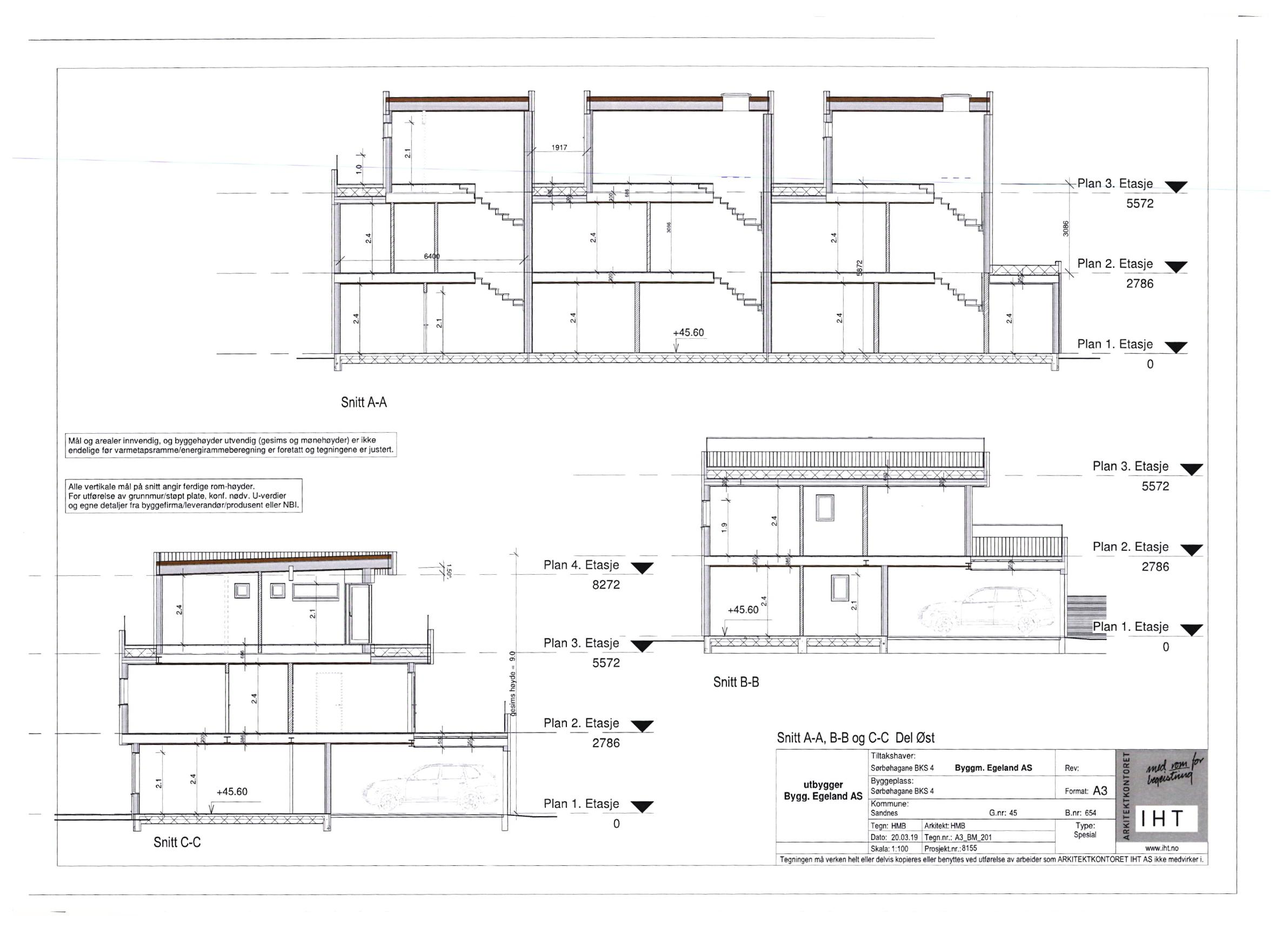snitt: (296, 89, 1101, 373), (114, 550, 557, 833), (699, 435, 1110, 657)
